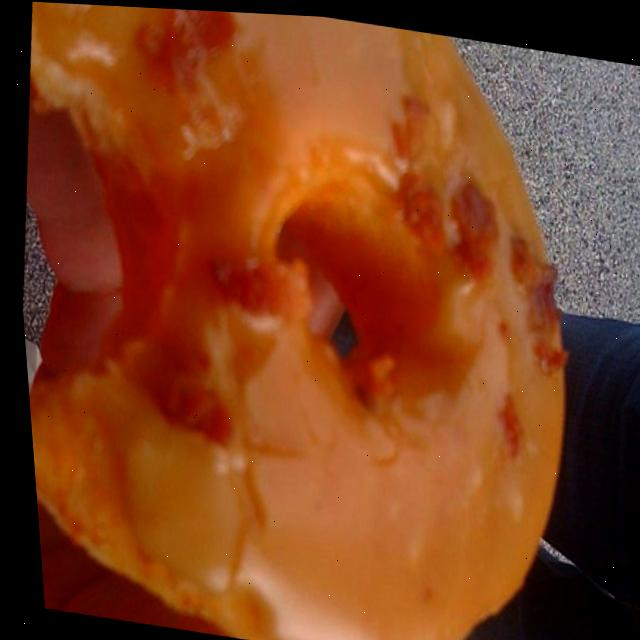炸货点心: (0, 0, 637, 640)
